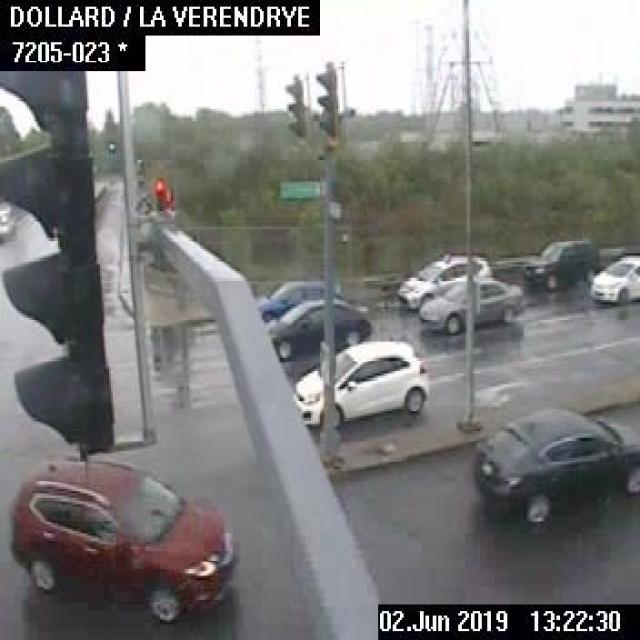vehicle: (2, 451, 233, 620), (466, 402, 638, 520), (292, 340, 428, 424), (267, 300, 371, 356), (398, 248, 489, 308), (422, 281, 522, 333), (524, 237, 598, 292), (256, 278, 344, 310), (588, 252, 638, 300), (0, 198, 13, 242)
